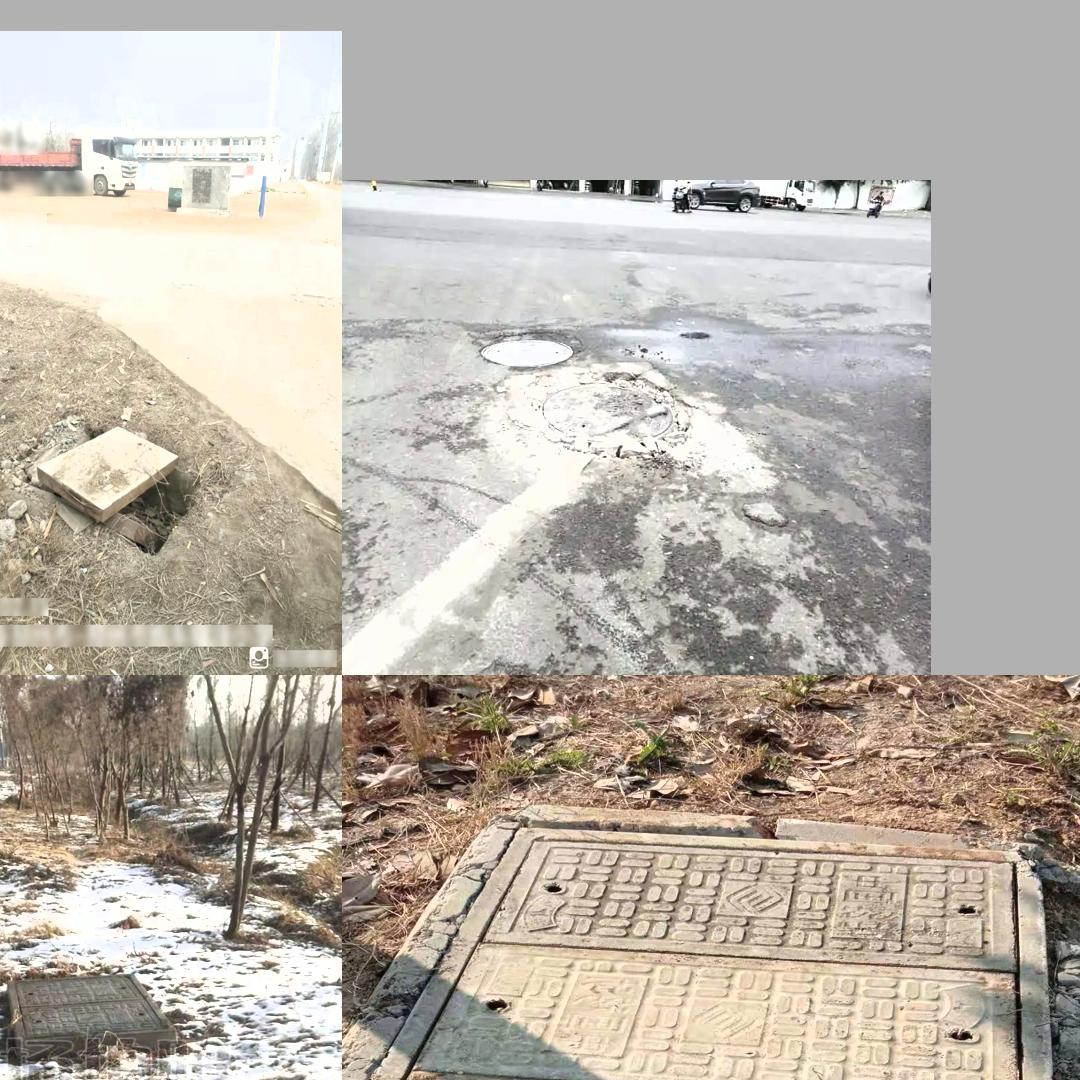circle: (342, 807, 1078, 1080), (512, 363, 738, 501), (14, 411, 210, 567), (0, 973, 188, 1069)
